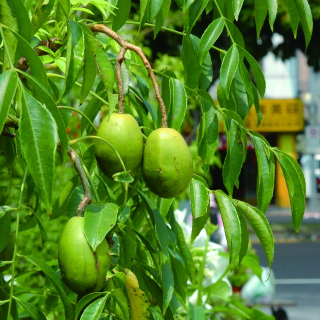coc: (144, 128, 192, 199)
